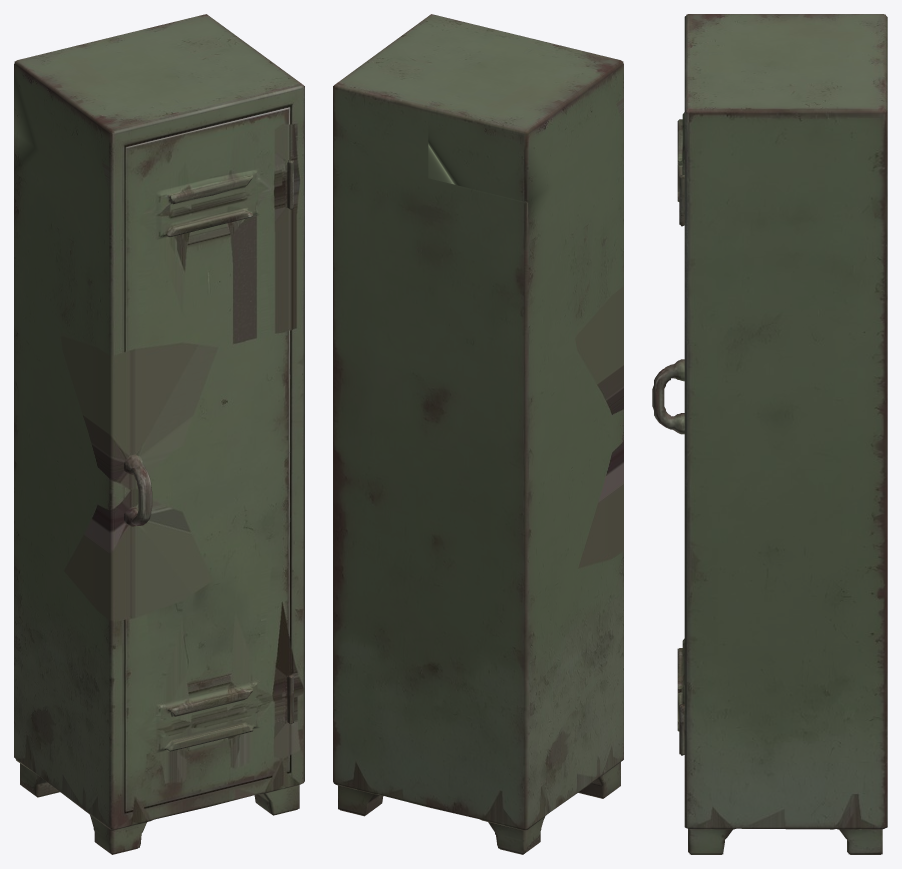
File: locker.glb
3 views of the same model, side by side, from view 1: azimuth 30°, elevation 25°; view 2: azimuth 150°, elevation 25°; view 3: azimuth 270°, elevation 25° (orthographic). The views are drawn at different scales.
Parts seen in each view (by area): view 1: frame; view 2: frame; view 3: frame.
Boxes of the visible parts, left/top/right/bottom form: frame: left=14, top=14, right=304, bottom=854; frame: left=333, top=14, right=623, bottom=854; frame: left=652, top=14, right=887, bottom=854.
Bounding box in the file's own units: 0.5908 × 2.1 × 0.5994.
Materials: 1 (1 with a texture image).
